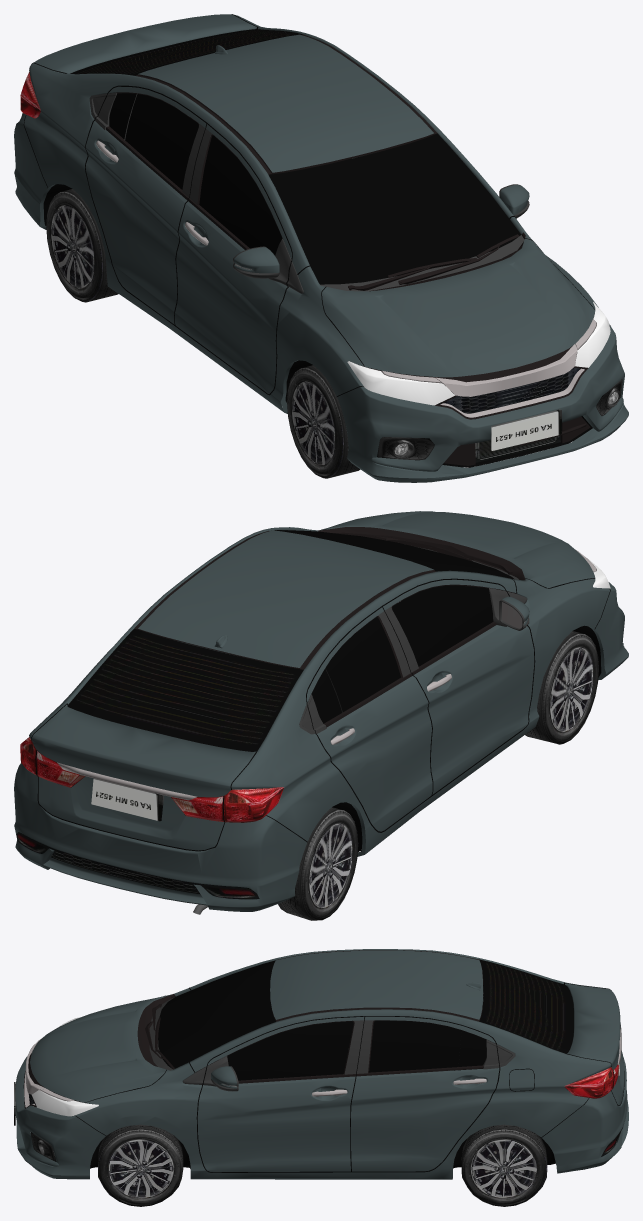
Rendered from city.glb.
3 renders of one model, top to bottom at view 1: azimuth 30°, elevation 25°; view 2: azimuth 150°, elevation 25°; view 3: azimuth 270°, elevation 25°, orthographic. The views are drawn at different scales.
Parts seen in each view (by area): view 1: frontLamp_Body_0, kaca_Kaca_0, tyre_ban_Material_0, frontLamp_Black80_lambert_0, frontLamp_Lamp_1Material_0, spion_Black80_Blin_0, frontLamp_Chrome_0, frontLampGlass_TransLampu_0, bodyList_bodyList1_0, bodyUnder_Black100_0; view 2: frontLamp_Body_0, kaca_Kaca_0, tyre_ban_Material_0, frontLamp_Lamp_1Material_0, frontLamp_Black80_lambert_0, spion_Black80_Blin_0, bodyList_bodyList1_0, frontLamp_Chrome_0, bodyUnder_Black100_0; view 3: frontLamp_Body_0, kaca_Kaca_0, tyre_ban_Material_0, frontLamp_Black80_lambert_0, spion_Black80_Blin_0, bodyList_bodyList1_0, frontLamp_Lamp_1Material_0, frontLamp_Chrome_0, frontLampGlass_TransLampu_0, bodyUnder_Black100_0.
Boxes of the visible parts, x1,y1,x2,y2 form: frontLamp_Body_0: (14,14,628,482); kaca_Kaca_0: (70,29,521,284); tyre_ban_Material_0: (46,189,360,478); frontLamp_Black80_lambert_0: (106,34,594,465); frontLamp_Lamp_1Material_0: (20,72,622,462); spion_Black80_Blin_0: (89,92,529,293); frontLamp_Chrome_0: (96,140,596,417); frontLampGlass_TransLampu_0: (347,302,610,405); bodyList_bodyList1_0: (23,14,610,467); bodyUnder_Black100_0: (43,153,581,467); frontLamp_Body_0: (14,511,628,911); kaca_Kaca_0: (67,530,514,751); tyre_ban_Material_0: (278,631,598,920); frontLamp_Lamp_1Material_0: (16,586,525,899); frontLamp_Black80_lambert_0: (134,527,525,727); spion_Black80_Blin_0: (299,547,529,734); bodyList_bodyList1_0: (31,529,610,851); frontLamp_Chrome_0: (57,549,596,800); bodyUnder_Black100_0: (70,591,605,882); frontLamp_Body_0: (15,949,628,1179); kaca_Kaca_0: (158,959,573,1080); tyre_ban_Material_0: (98,1124,547,1206); frontLamp_Black80_lambert_0: (23,950,565,1108); spion_Black80_Blin_0: (149,986,515,1091); bodyList_bodyList1_0: (74,982,624,1172); frontLamp_Lamp_1Material_0: (14,1064,622,1161); frontLamp_Chrome_0: (24,1025,621,1107); frontLampGlass_TransLampu_0: (32,1017,98,1116); bodyUnder_Black100_0: (43,1068,607,1170).
Bounding box in the file's own units: 41.94 × 33.62 × 102.
Materials: 11 (3 with a texture image).
